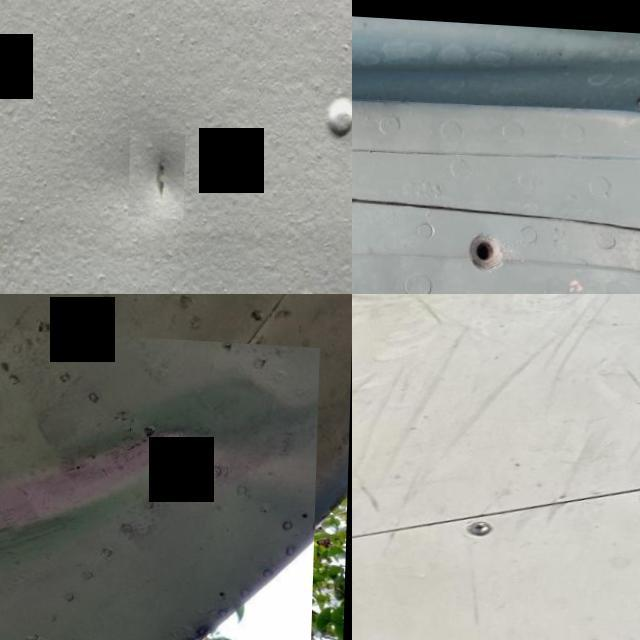Crack: (66, 478, 132, 523)
Dent: (0, 311, 320, 640), (133, 127, 187, 213)
Missing_Fastener: (435, 198, 535, 292)
